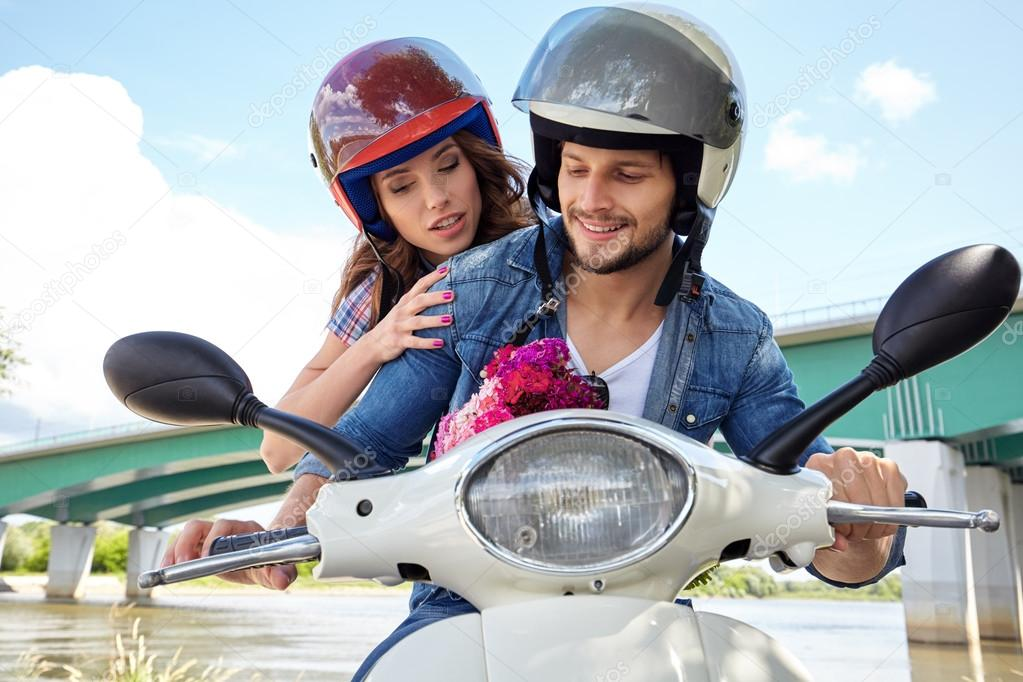helmet: (497, 8, 749, 240), (306, 67, 494, 219)
